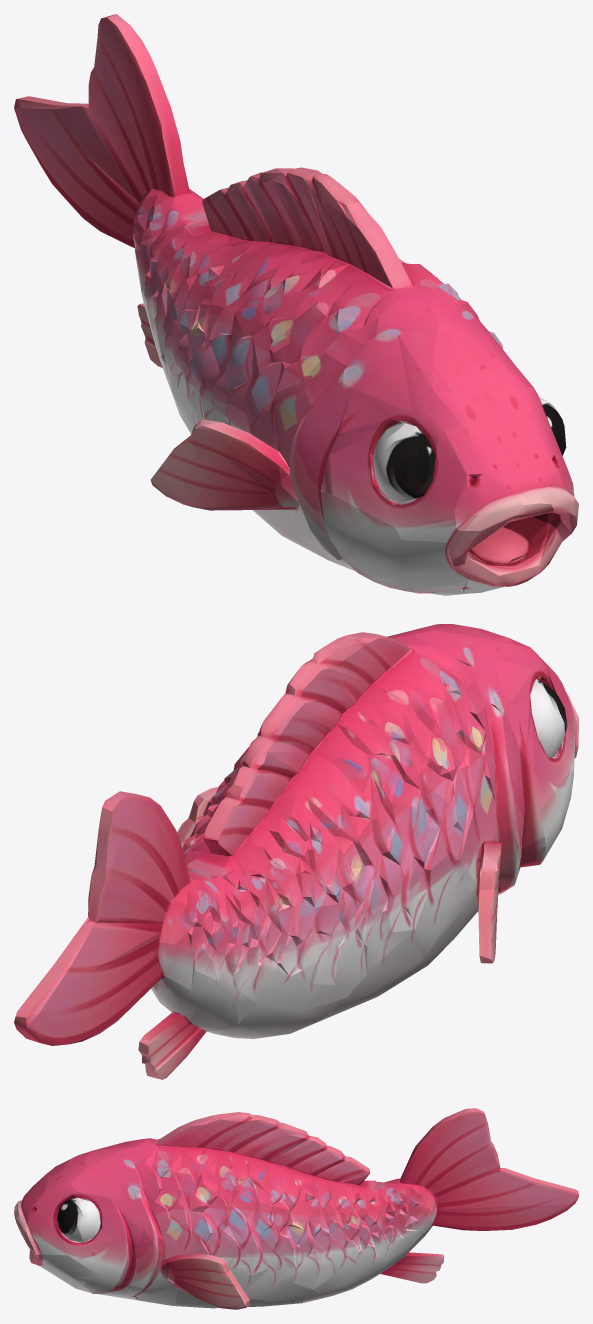
Rendered from okdom.glb.
3 views of the same model, one above another, from view 1: azimuth 30°, elevation 25°; view 2: azimuth 150°, elevation 25°; view 3: azimuth 270°, elevation 25° (orthographic). The views are drawn at different scales.
Parts seen in each view (by area): view 1: okdom; view 2: okdom; view 3: okdom.
Part boxes in pixels (x1,y1,x2,y2): okdom: (14,14,578,595); okdom: (14,624,578,1079); okdom: (14,1108,578,1309).
Size of the model in its own units: 0.727 by 0.6665 by 1.9.
1 material, 1 textured.
